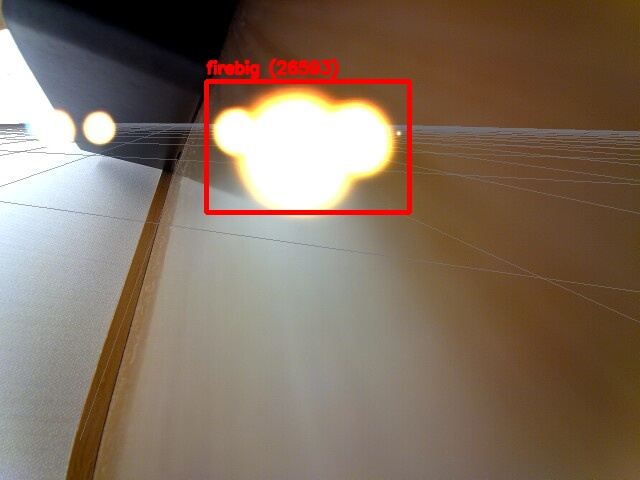firebig: (206, 81, 409, 212)
